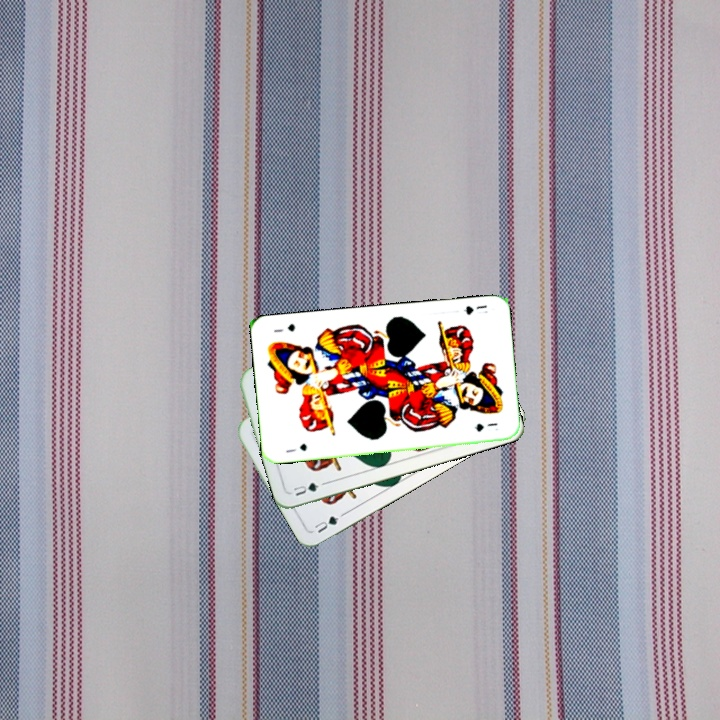GU: (289, 478, 327, 499), (310, 512, 341, 536), (459, 301, 490, 318), (282, 439, 309, 455)
